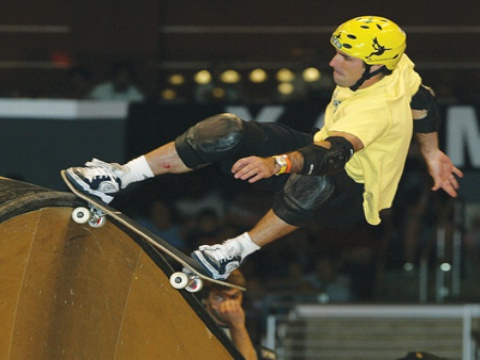hand: (424, 149, 464, 199), (229, 154, 272, 184)
